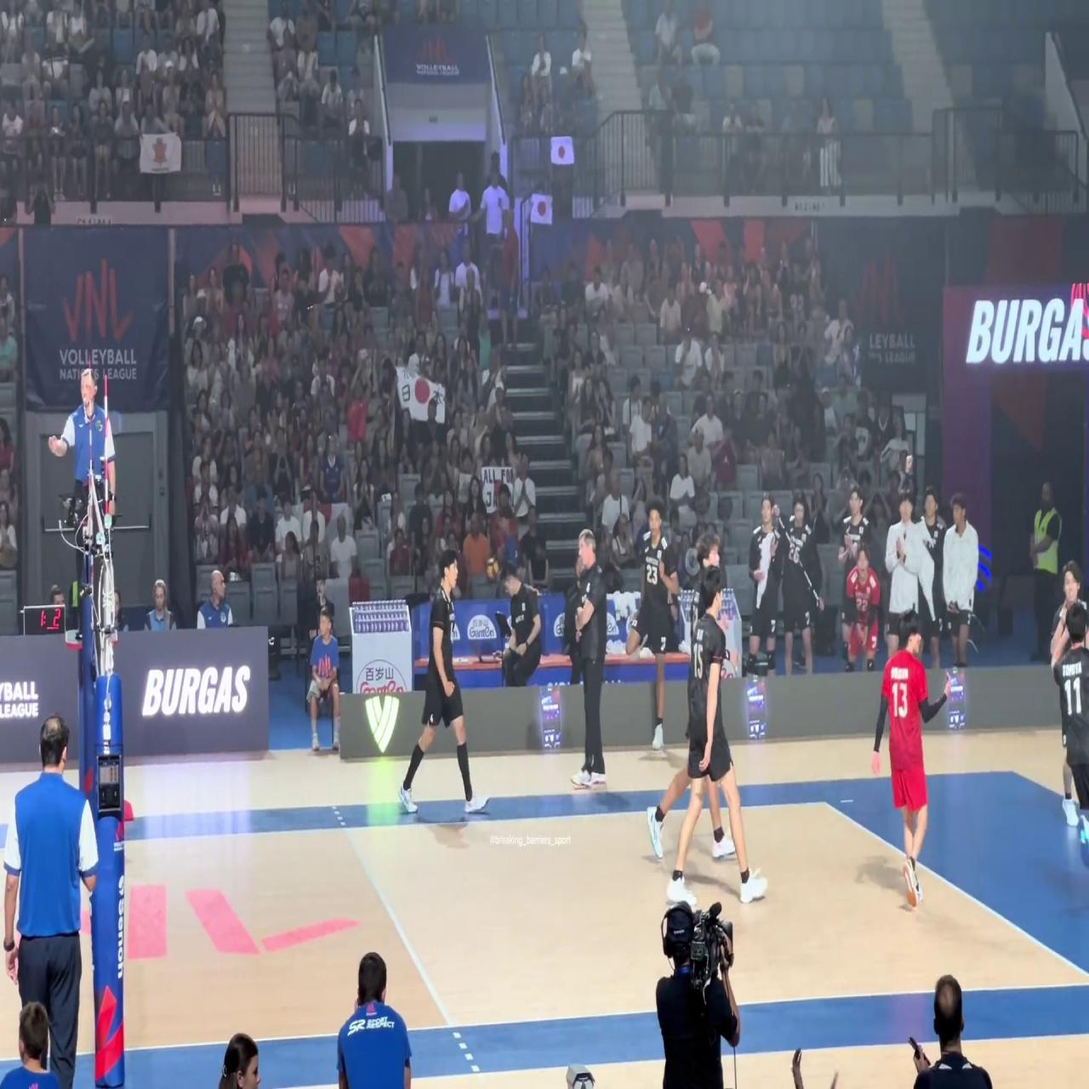ball: (487, 557, 498, 581)
